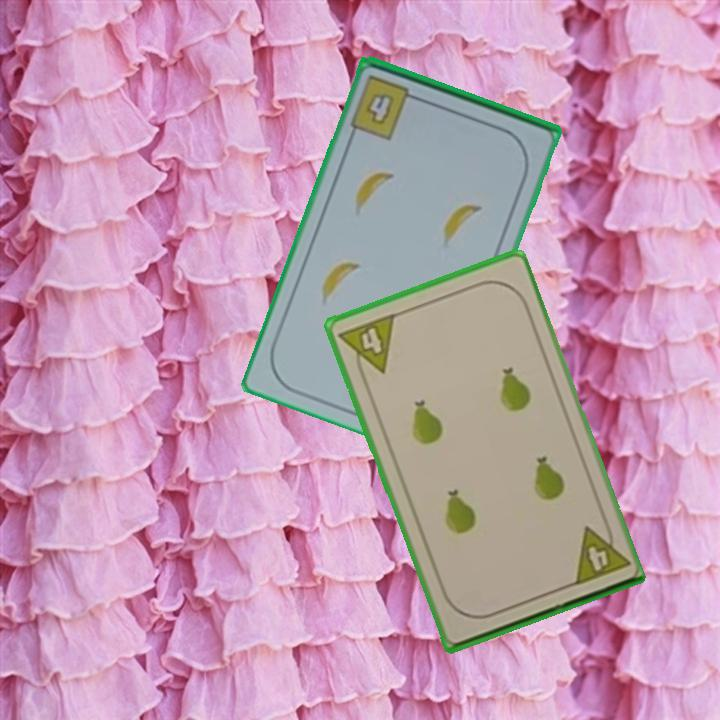4b: (346, 71, 425, 142)
4p: (335, 309, 398, 383), (568, 517, 631, 589)
